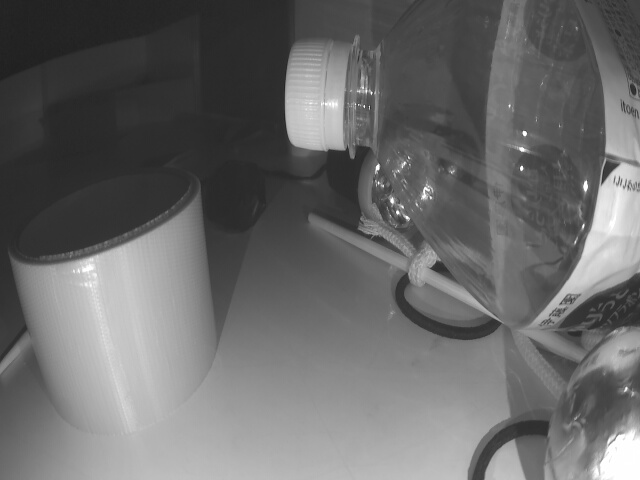Dead: (204, 160, 265, 239)
Live: (542, 323, 640, 480), (357, 133, 454, 244)
Point: (52, 78, 192, 141)
